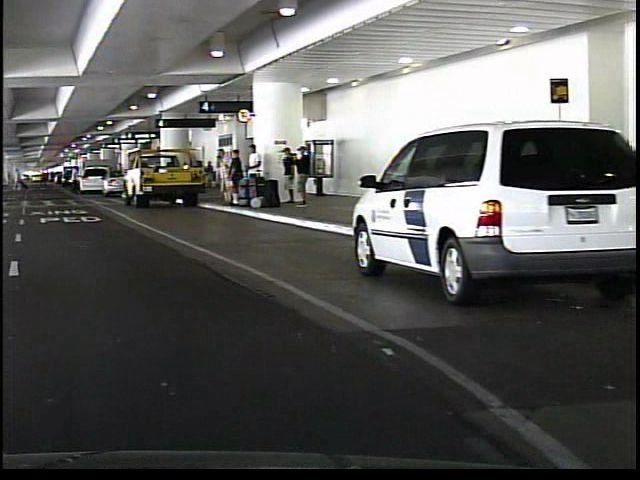person: (210, 142, 229, 204), (292, 143, 308, 207), (66, 164, 78, 196)
